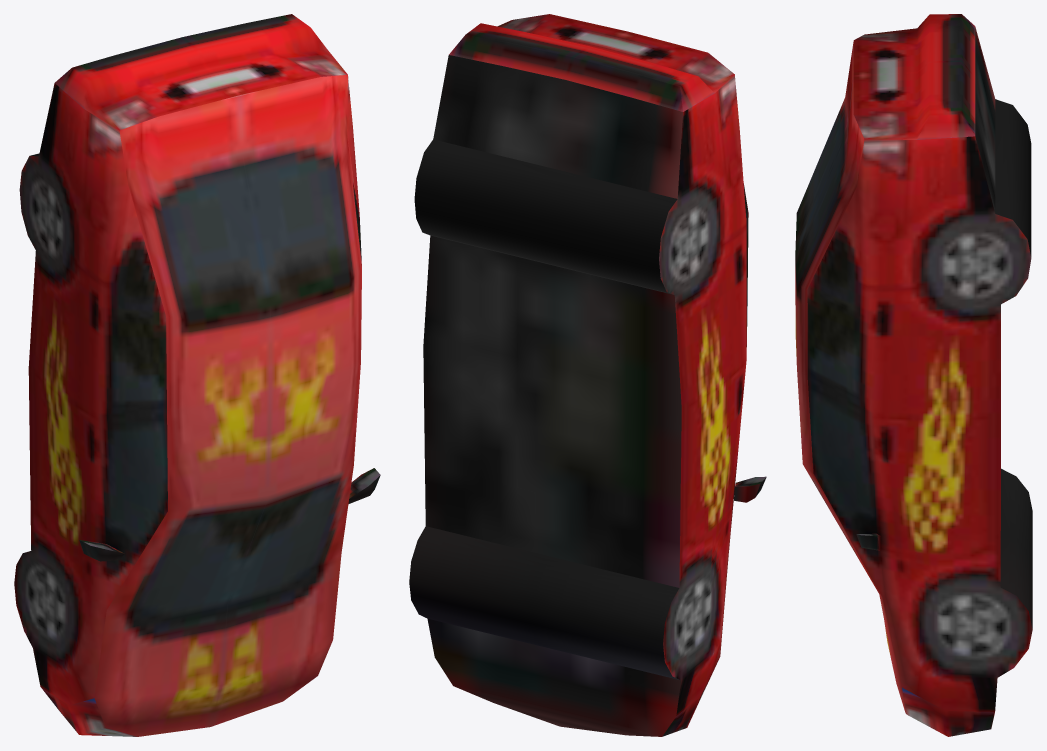
Rendered from RaceCar4_L.fbx.
3 views of the same model, side by side, from view 1: azimuth 30°, elevation 25°; view 2: azimuth 150°, elevation 25°; view 3: azimuth 270°, elevation 25° (orthographic). The views are drawn at different scales.
Parts seen in each view (by area): view 1: RaceCar4_L; view 2: RaceCar4_L; view 3: RaceCar4_L.
Part boxes in pixels (x1,y1,x2,y2): RaceCar4_L: (14,14,380,736); RaceCar4_L: (409,14,766,736); RaceCar4_L: (795,14,1032,736).
Bounding box in the file's own units: 196 × 433 × 145.
1 material, 1 textured.
